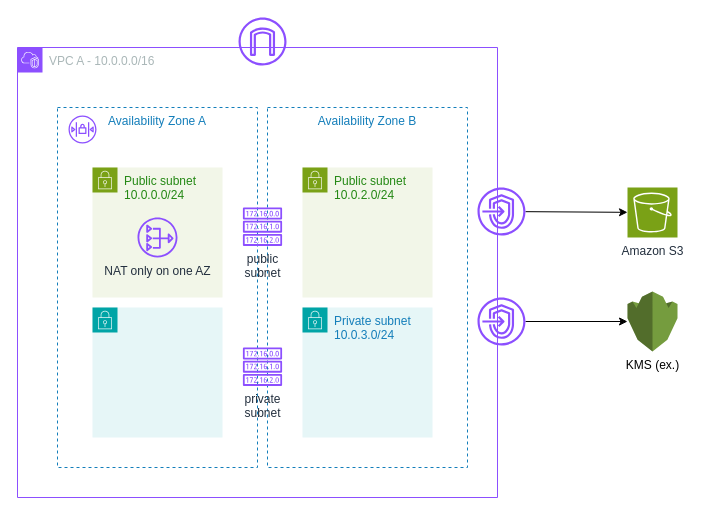
This 701x515 diagram has some shape labels left out. The shapes that lost their labels are listed below. From the top down, each one's centre as x and y in pixels, then its label:
the point at 262,41: internet gateway
the point at 82,129: NACLS
the point at 501,211: Gateway Endpoint
the point at 501,321: Interface Endpoint
the point at 157,372: Private subnet 10.0.1.0/24
